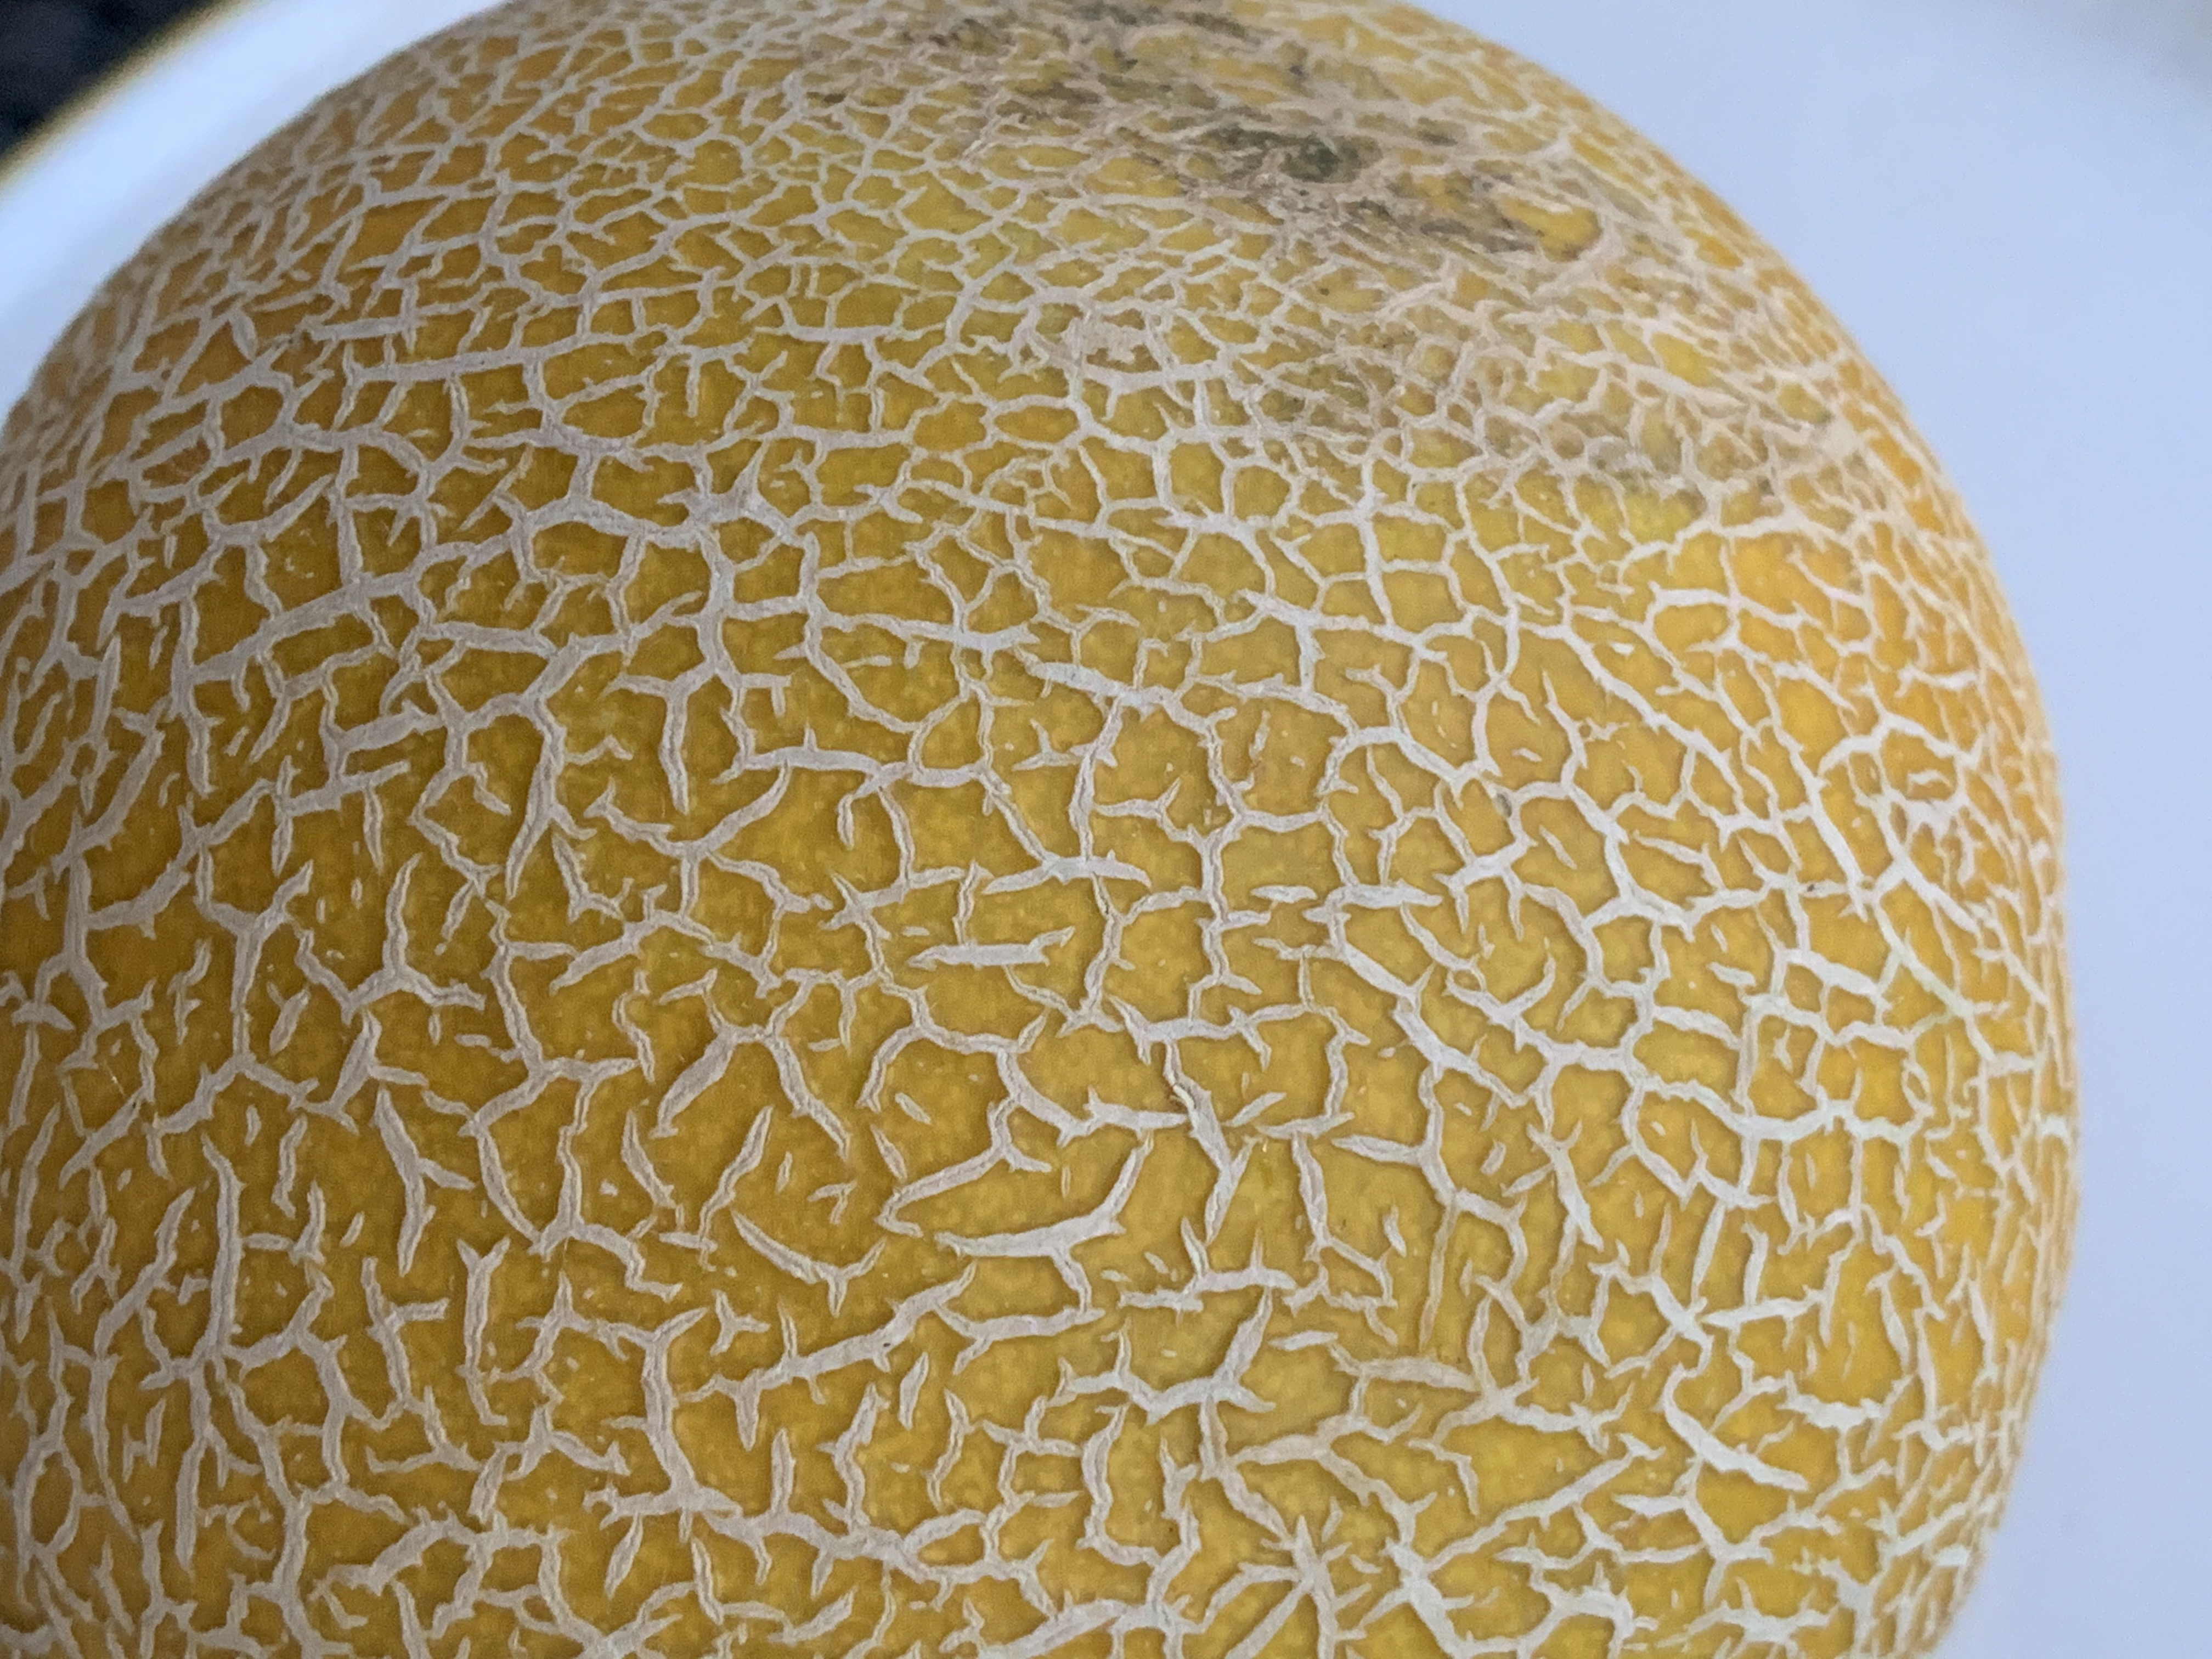galia melon: (24, 16, 2177, 1659)
